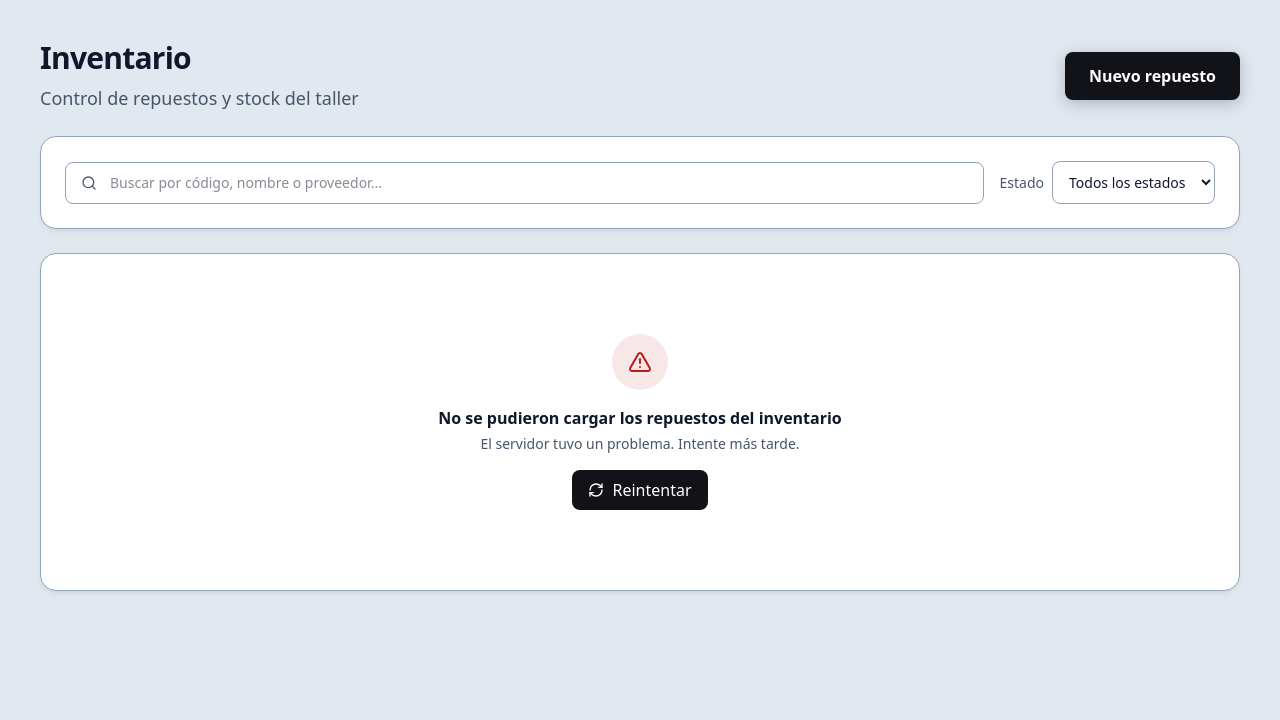
Test: AdminInventoryPage: filtros y estado de stock › muestra el error y permite reintentar la carga
expect the text "No se pudieron cargar los repuestos del inventario" is shown: met, box [438,406,842,430]
expect the text "El servidor tuvo un problema. Intente más tarde." is shown: met, box [480,434,800,454]
Click the button "Reintentar": (640, 490) [572,470,708,510]
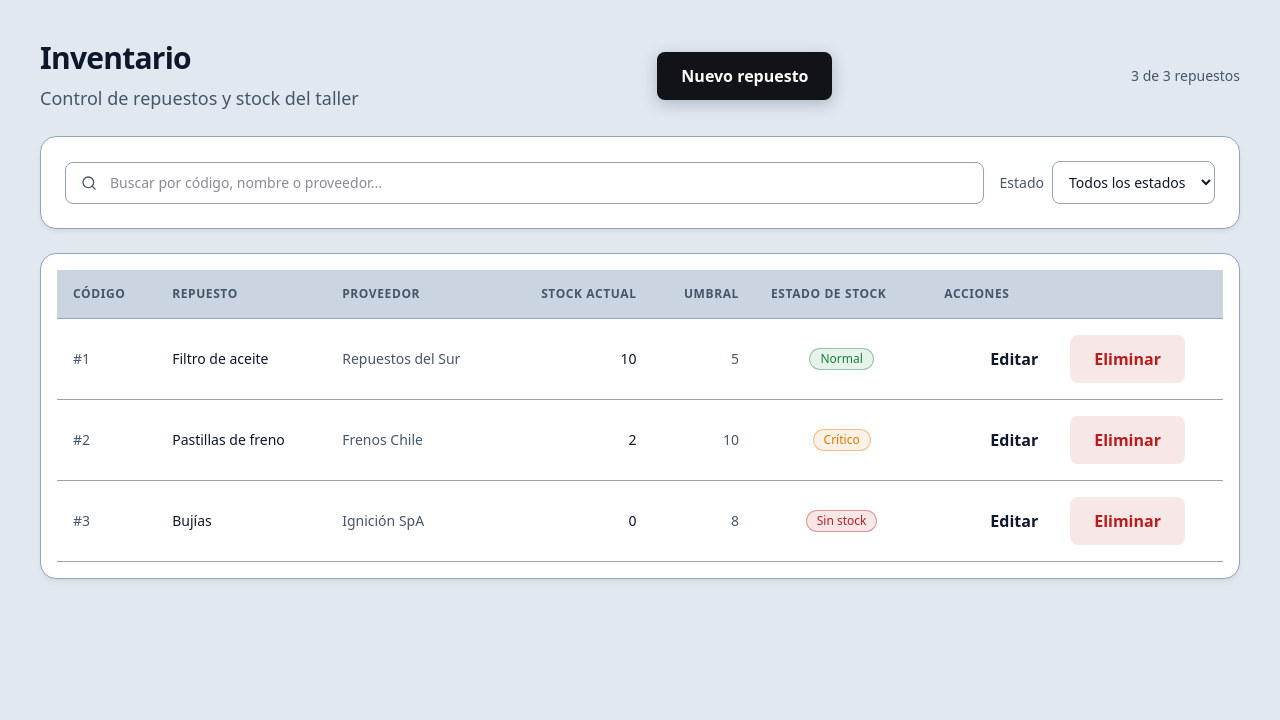
expect the text "Filtro de aceite" is shown: met, box [156,319,326,400]
